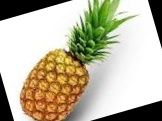Pineapple: (20, 1, 135, 121)
